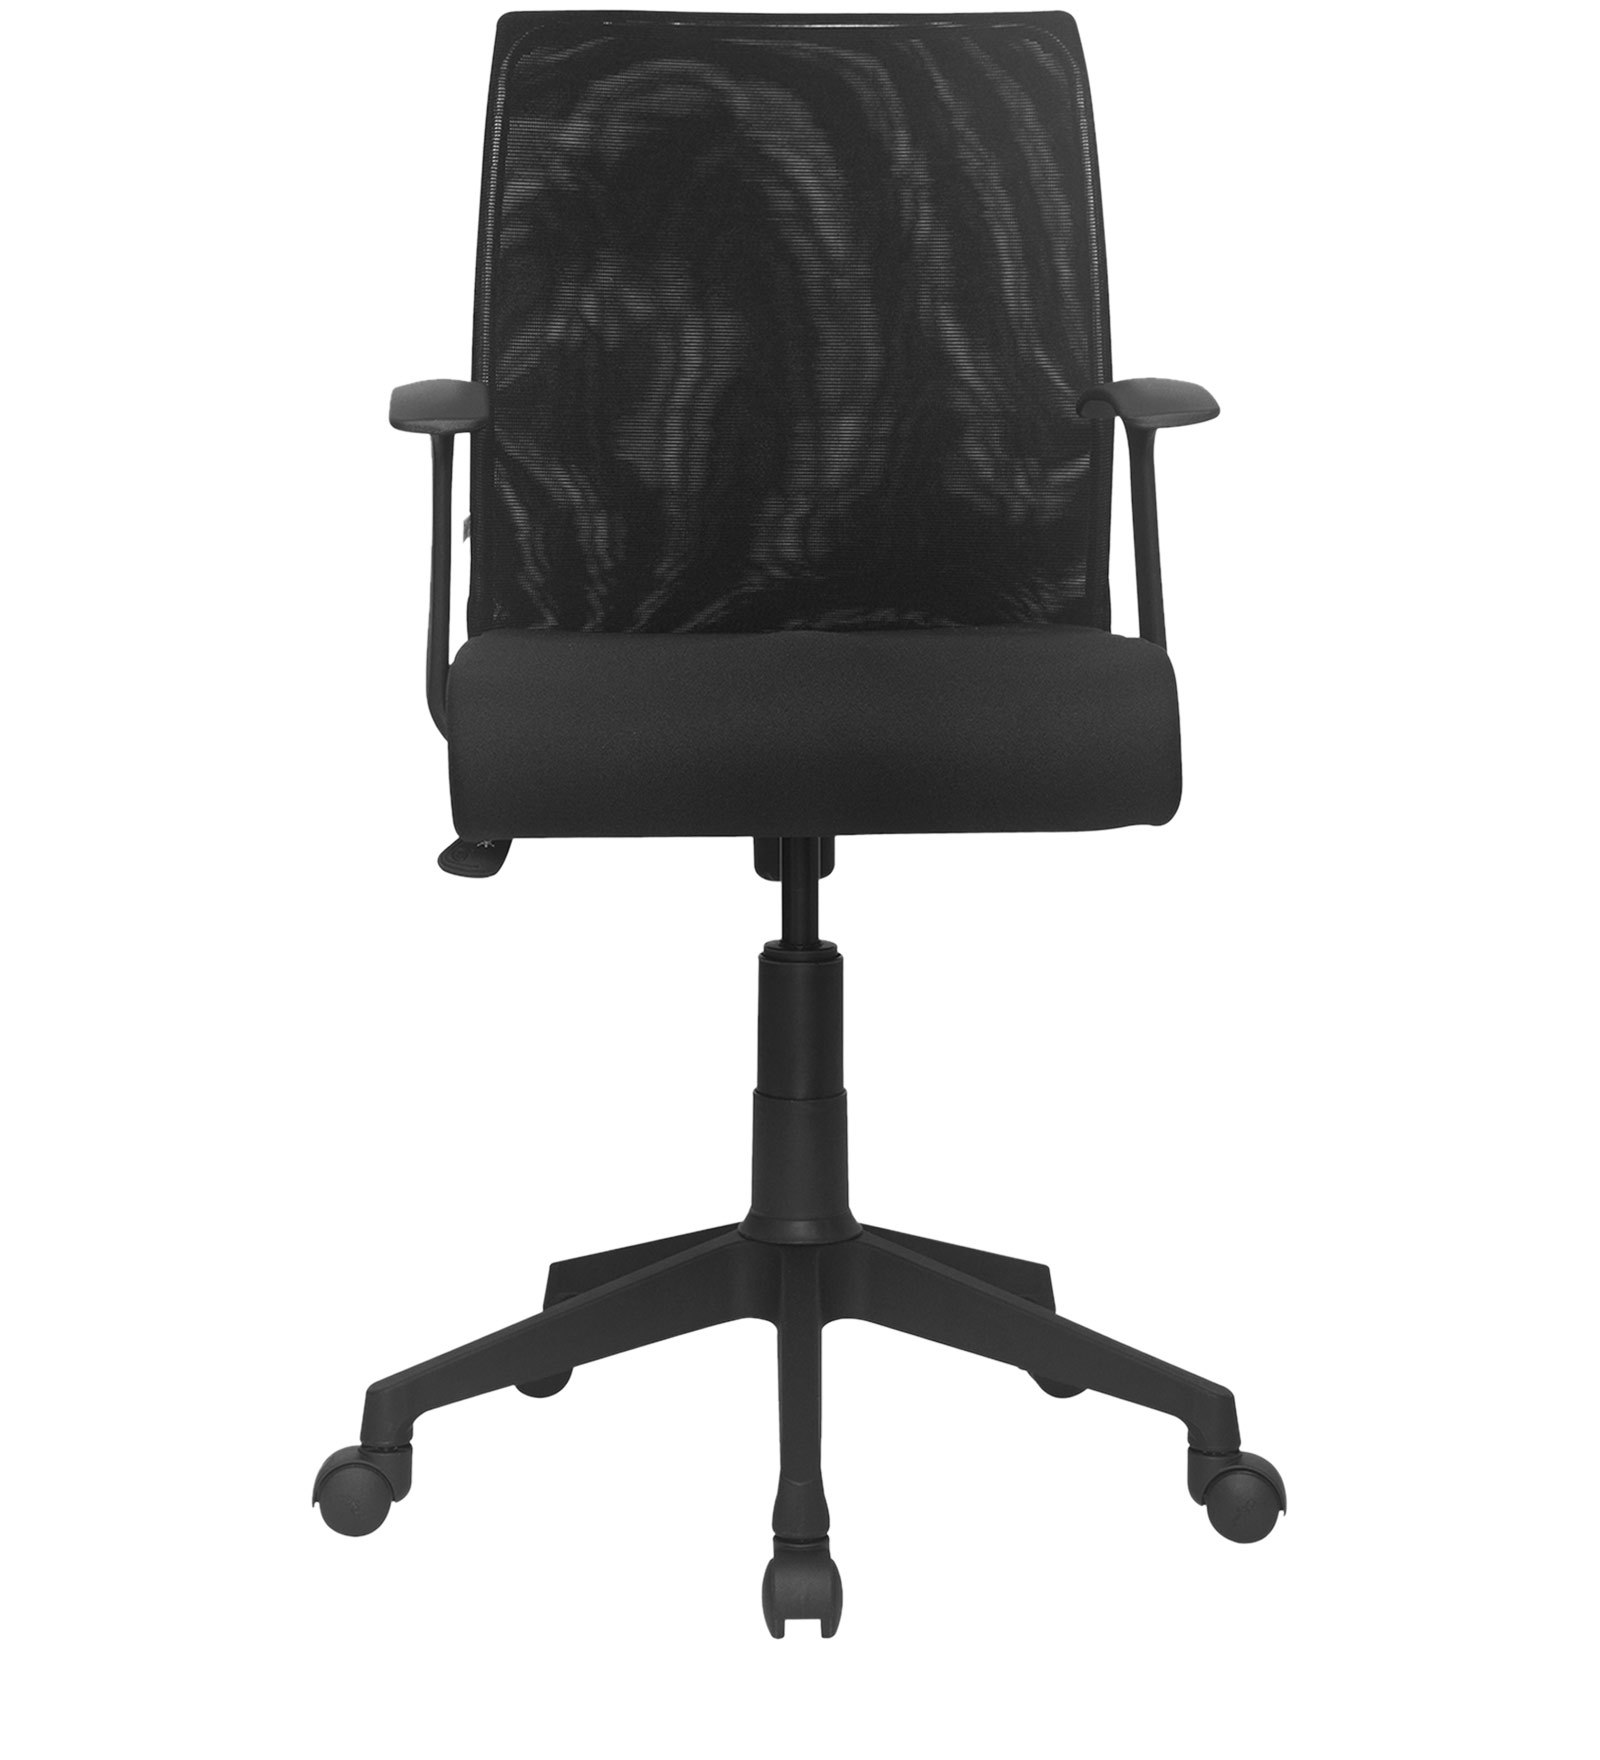Thames Low Back Mesh Office Chair in Black Colour by Nilkamal: (299, 15, 1389, 1674)
